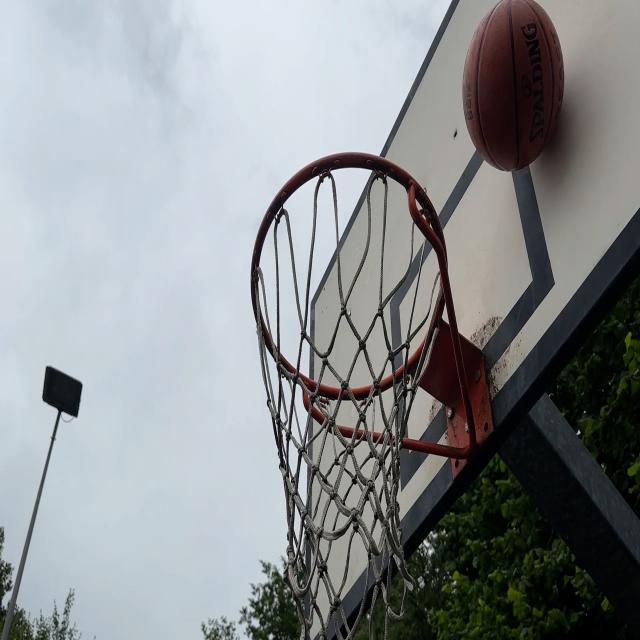rebound_hit: (462, 1, 567, 172)
